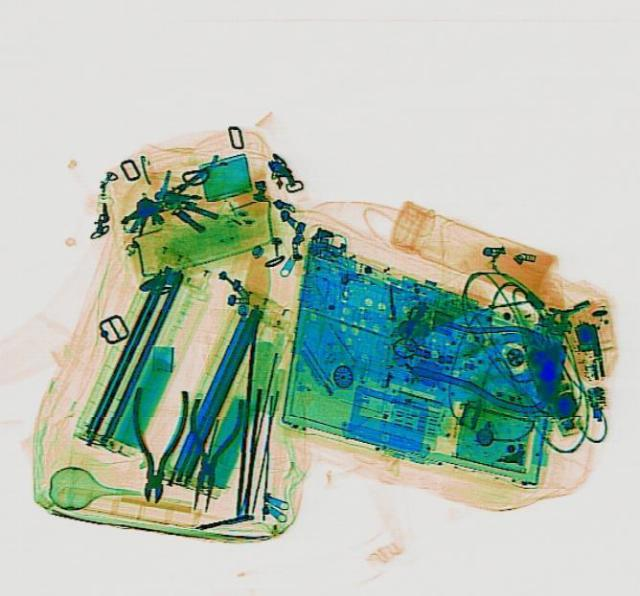Pliers: (170, 392, 246, 515), (120, 384, 187, 503)
